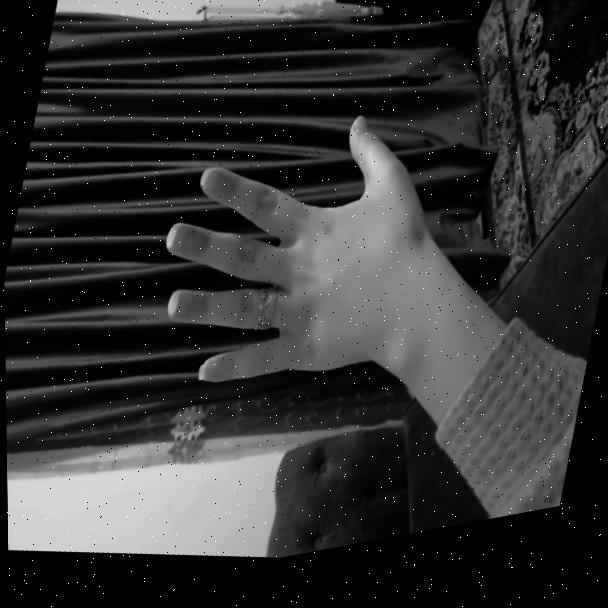five: (126, 71, 460, 460)
